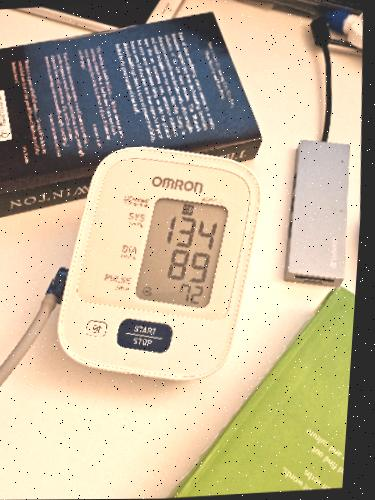bpm: (130, 190, 232, 315)
